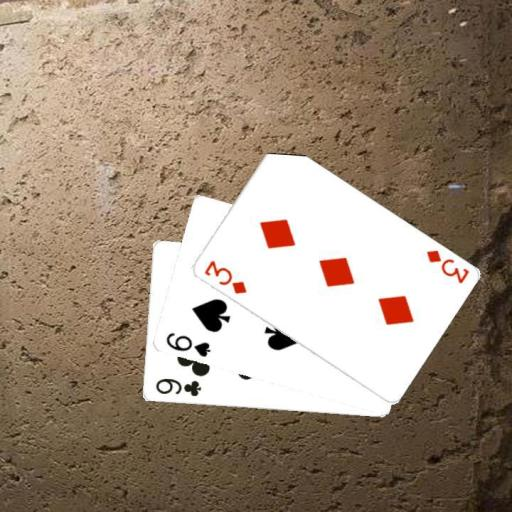3D: (201, 257, 248, 296), (422, 247, 470, 285)
6S: (162, 329, 212, 359)
9C: (152, 376, 203, 399)
